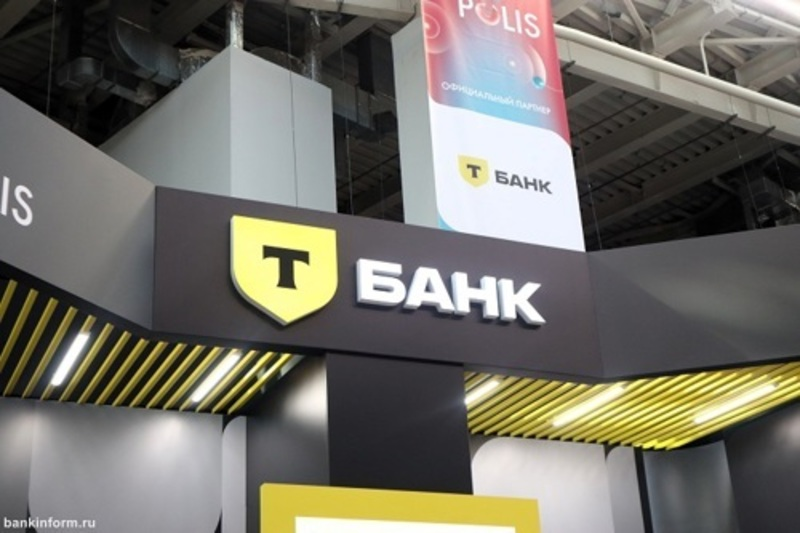TBank: (230, 213, 338, 327), (457, 155, 490, 188)
